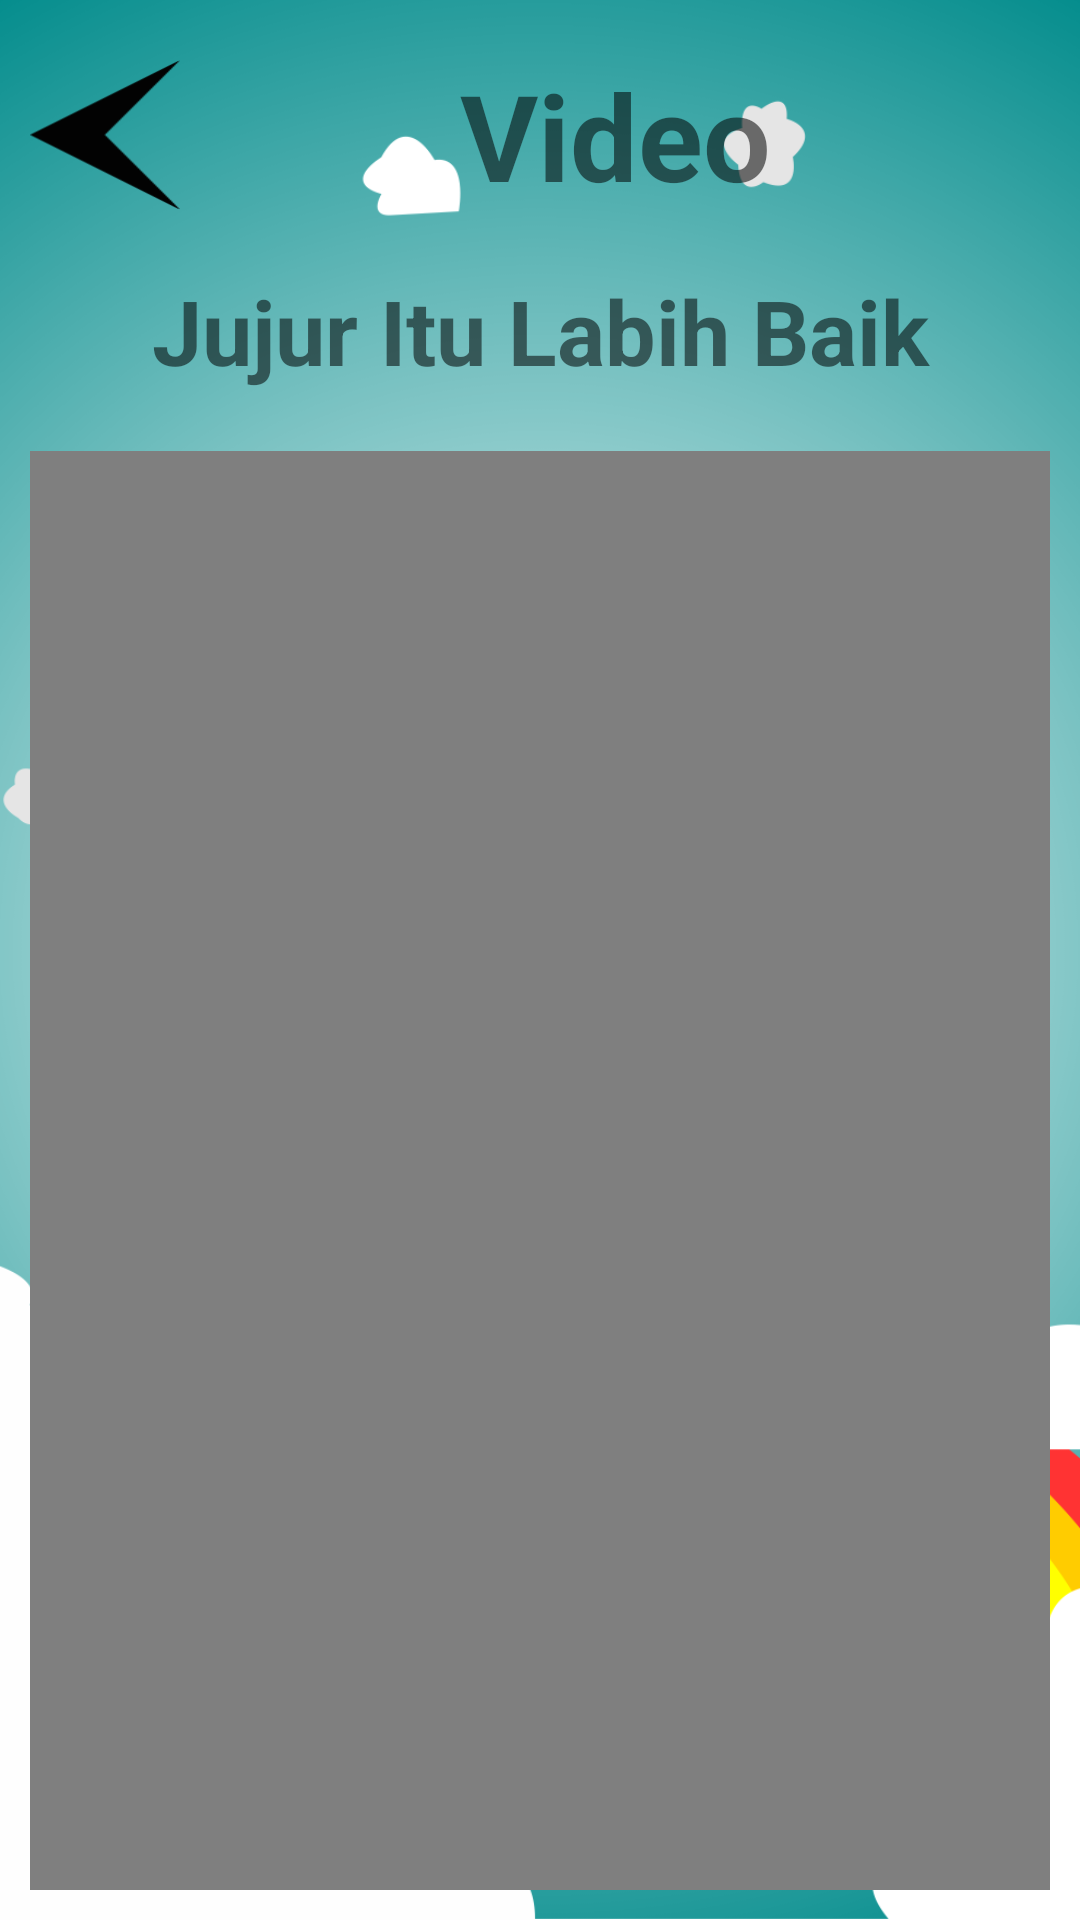

Screen size 1080px x 1920px. Icon name, then its center in pixels as (x,y):
back: (105,134)
